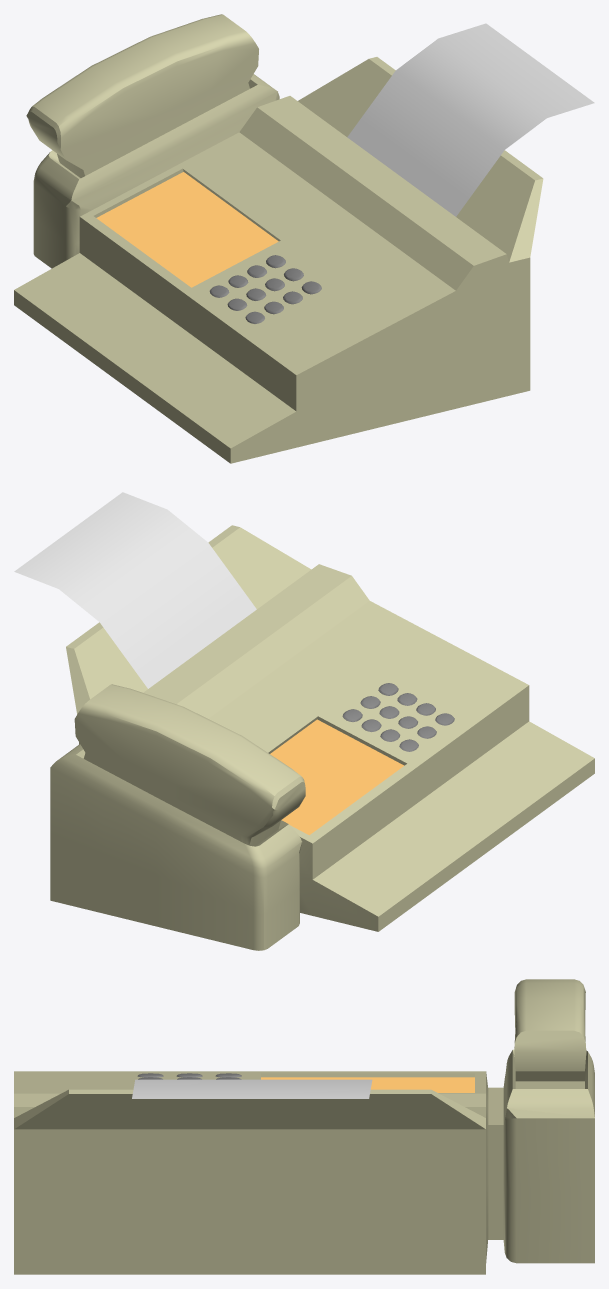
File: faxMachine.glb
3 renders of one model, top to bottom at view 1: azimuth 30°, elevation 25°; view 2: azimuth 150°, elevation 25°; view 3: azimuth 270°, elevation 25°, orthographic. The views are drawn at different scales.
Visible parts, largest first — view 1: Cube.005, Plane.006, Cylinder.007; view 2: Cube.005, Plane.006, Cylinder.007; view 3: Cube.005, Plane.006, Cylinder.007.
Part boxes in pixels (x1,y1,x2,y2): Cube.005: [14, 14, 543, 463]; Plane.006: [347, 23, 594, 216]; Cylinder.007: [209, 255, 321, 323]; Cube.005: [50, 525, 594, 950]; Plane.006: [14, 492, 256, 688]; Cylinder.007: [342, 683, 454, 751]; Cube.005: [14, 979, 594, 1274]; Plane.006: [132, 1079, 372, 1098]; Cylinder.007: [137, 1073, 241, 1079].
Size of the model in its own units: 0.938 by 0.4693 by 1.04.
